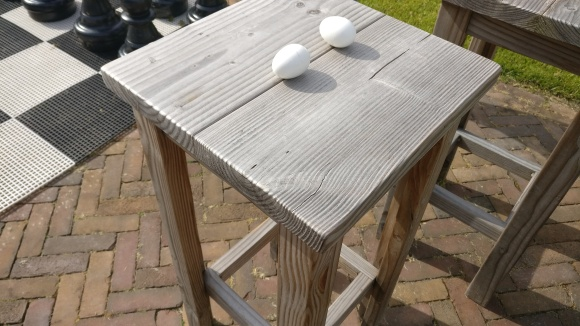egg: (271, 42, 311, 80), (318, 15, 357, 49)
